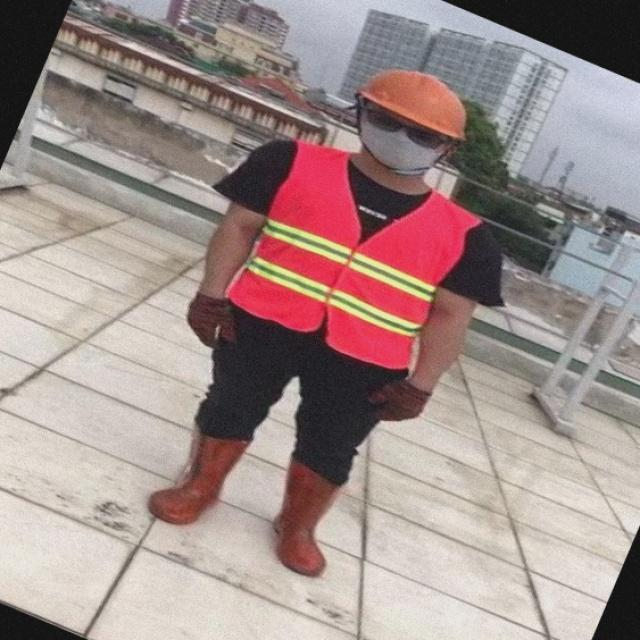Capacete: (356, 69, 465, 140)
Colete: (228, 142, 480, 368)
Oculos: (365, 106, 448, 147)
